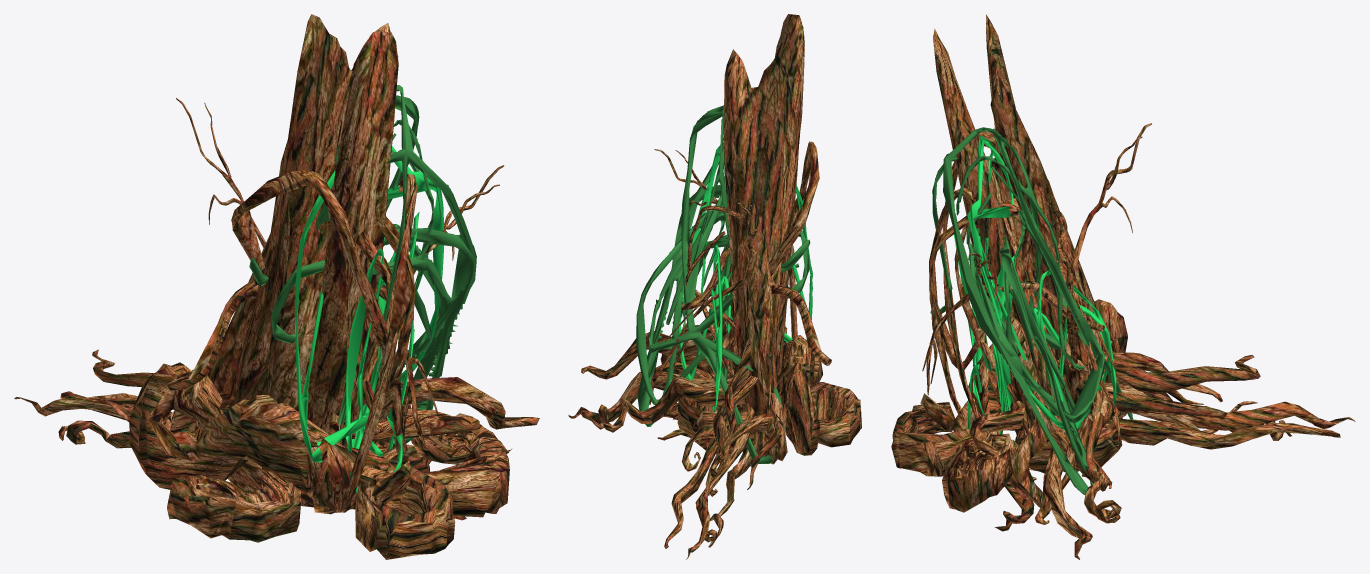
Rendered from worldtree.tunk.one.glb.
3 views of the same model, side by side, from view 1: azimuth 30°, elevation 25°; view 2: azimuth 150°, elevation 25°; view 3: azimuth 270°, elevation 25° (orthographic). The views are drawn at different scales.
Parts seen in each view (by area): view 1: jump_rope_246.009; view 2: jump_rope_246.009; view 3: jump_rope_246.009.
Boxes of the visible parts, left/top/right/bottom form: jump_rope_246.009: left=14, top=14, right=539, bottom=559; jump_rope_246.009: left=568, top=14, right=861, bottom=559; jump_rope_246.009: left=891, top=14, right=1355, bottom=559.
Bounding box in the file's own units: 1.35 × 1.92 × 1.79.
Materials: 3 (1 with a texture image).
